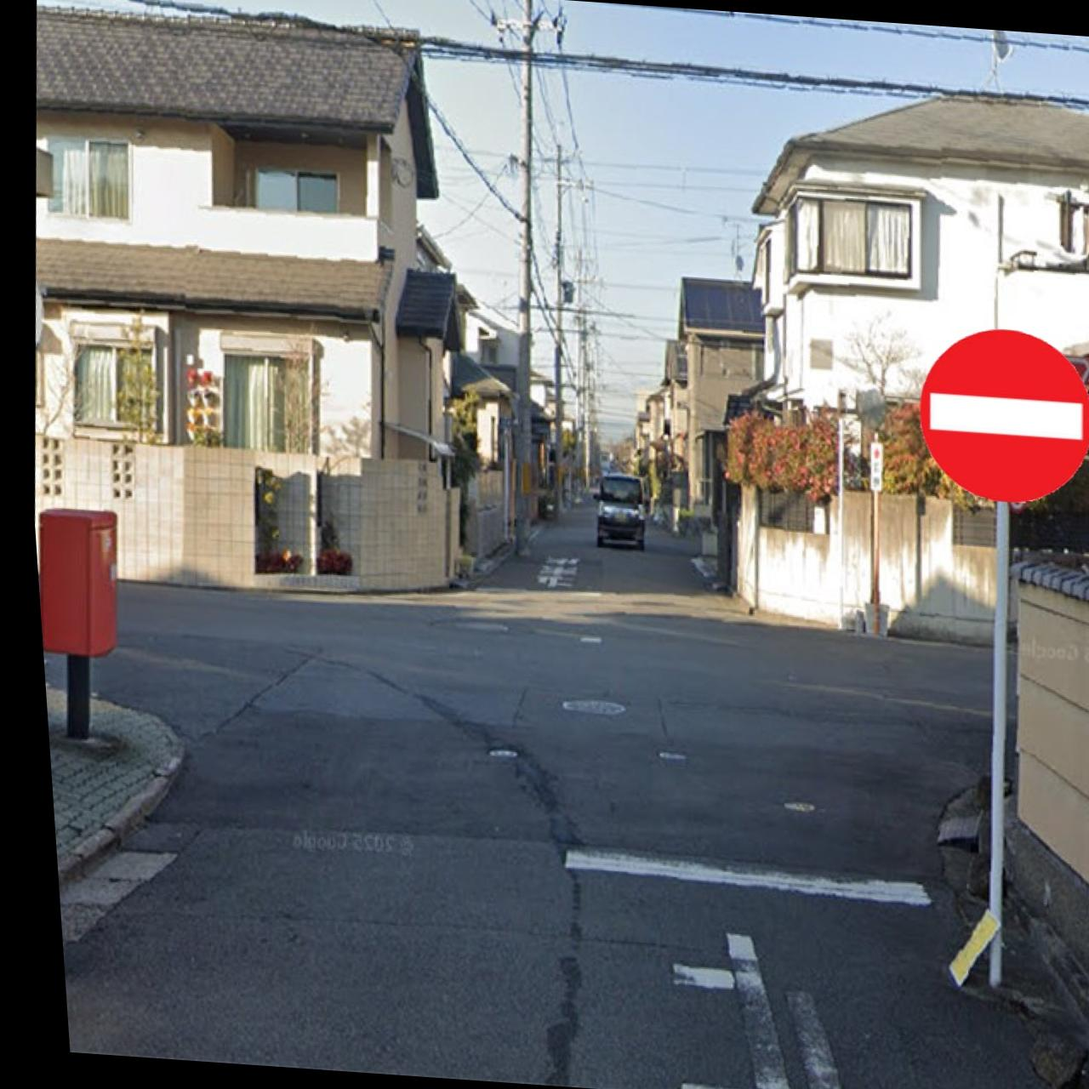barrier: (904, 322, 1089, 510)
